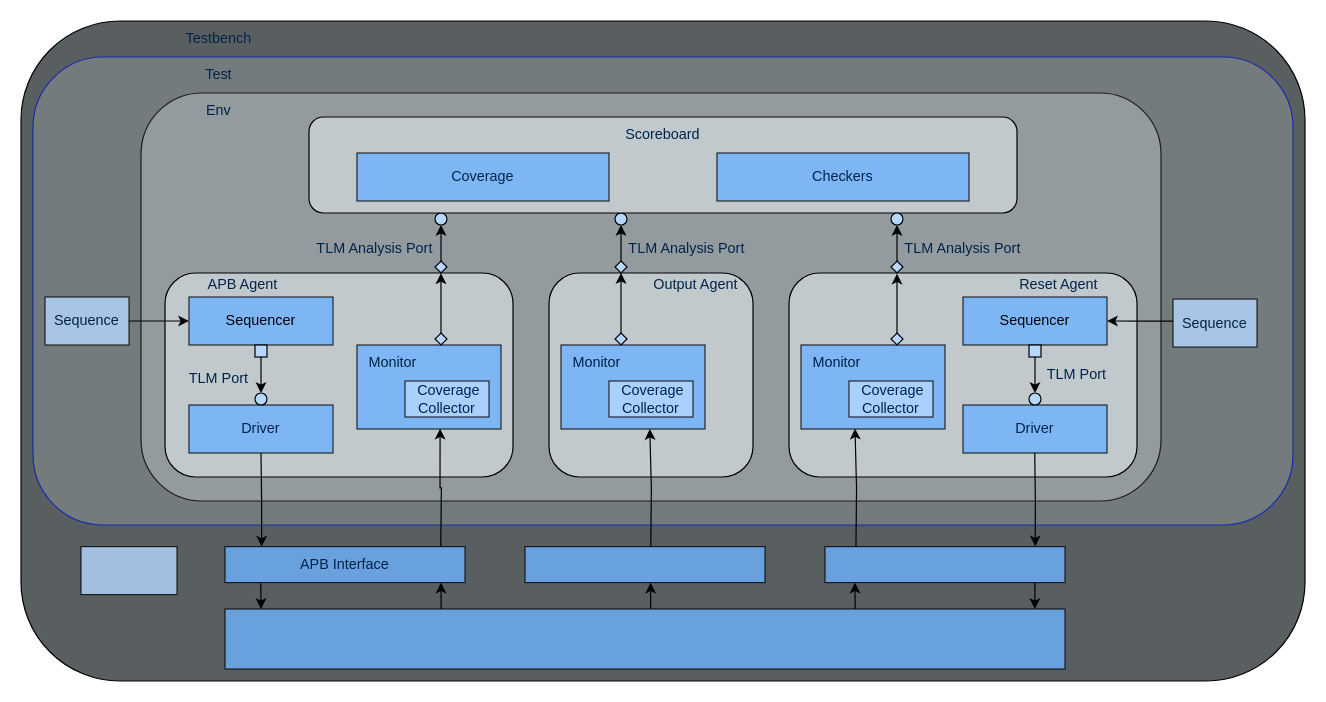
The diagram is 1326 pixels wide and 702 high, and some of its shapes have lost their labels. Here are the shapes that lost their labels. From the top down, the centre of each, then its label:
the point at 128,570: Clock Generator
the point at 644,564: Output Interface
the point at 944,564: Reset Interface
the point at 644,638: DUT
